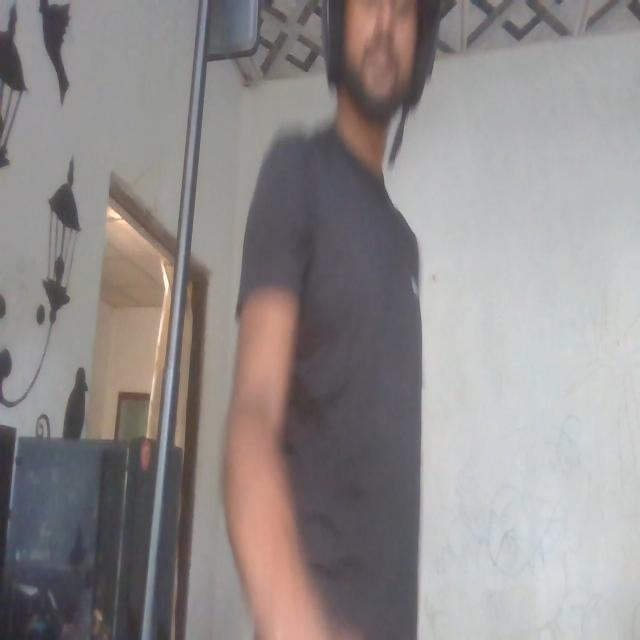Helmet_Wearer: (321, 0, 446, 159)
Person: (222, 0, 446, 640)
